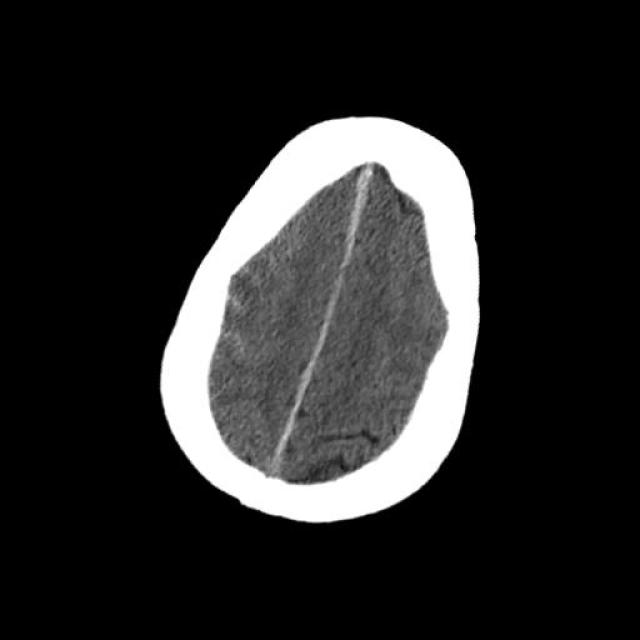Subarachnoid: (210, 282, 260, 354)
Subdural: (294, 138, 438, 302)
